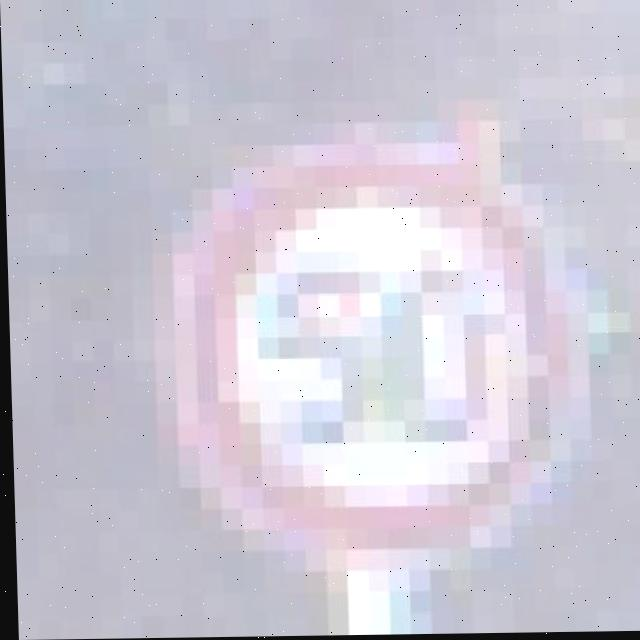Speed limit 50: (148, 105, 610, 567)
